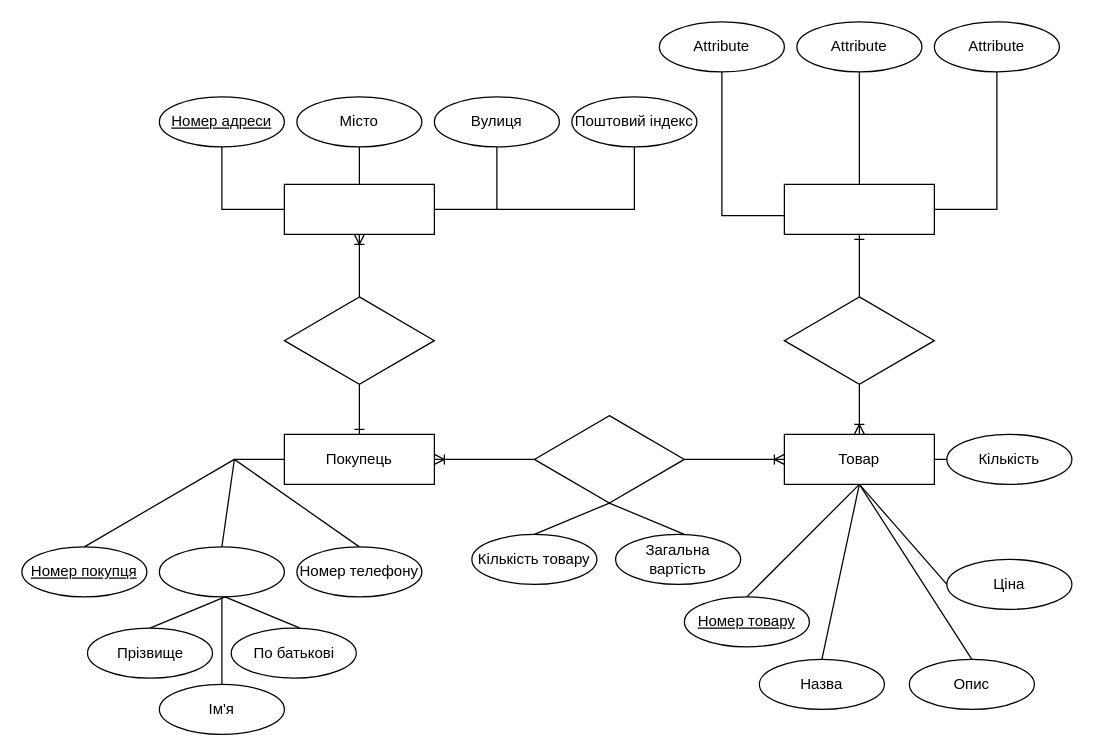
Some shapes in this 1094 by 756 pixel diagram are drawn without their labels. Each missing label, with the box of its shape:
Адреса: (283, 183, 434, 234)
Доставляється: (283, 296, 434, 384)
Замовлення: (533, 414, 684, 503)
Категорія: (783, 183, 934, 234)
ПІБ: (158, 546, 284, 597)
Сортує: (783, 296, 934, 384)
